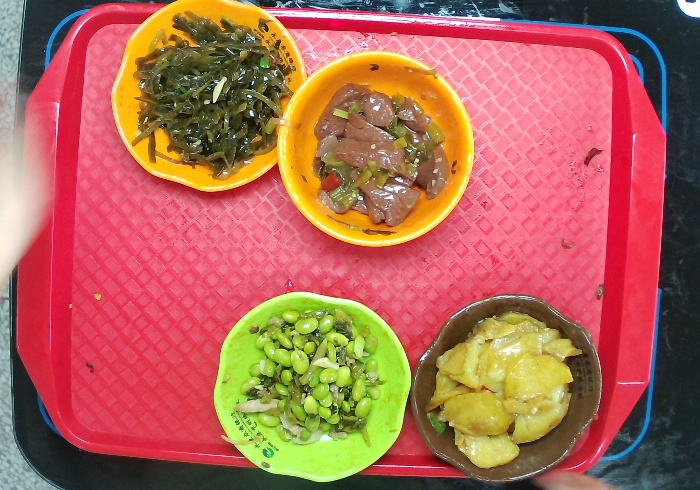YKMZ-Ju_Se_Ao_Bian_Wan: (107, 1, 309, 197)
YKMZ-Ju_Se_Yuan_Wan: (274, 45, 476, 250)
YKMZ-Ka_Fei_Ao_Bian_Wan: (406, 287, 605, 487)
YKMZ-Lv_Se_Ao_Bian_Wan: (208, 287, 416, 486)
